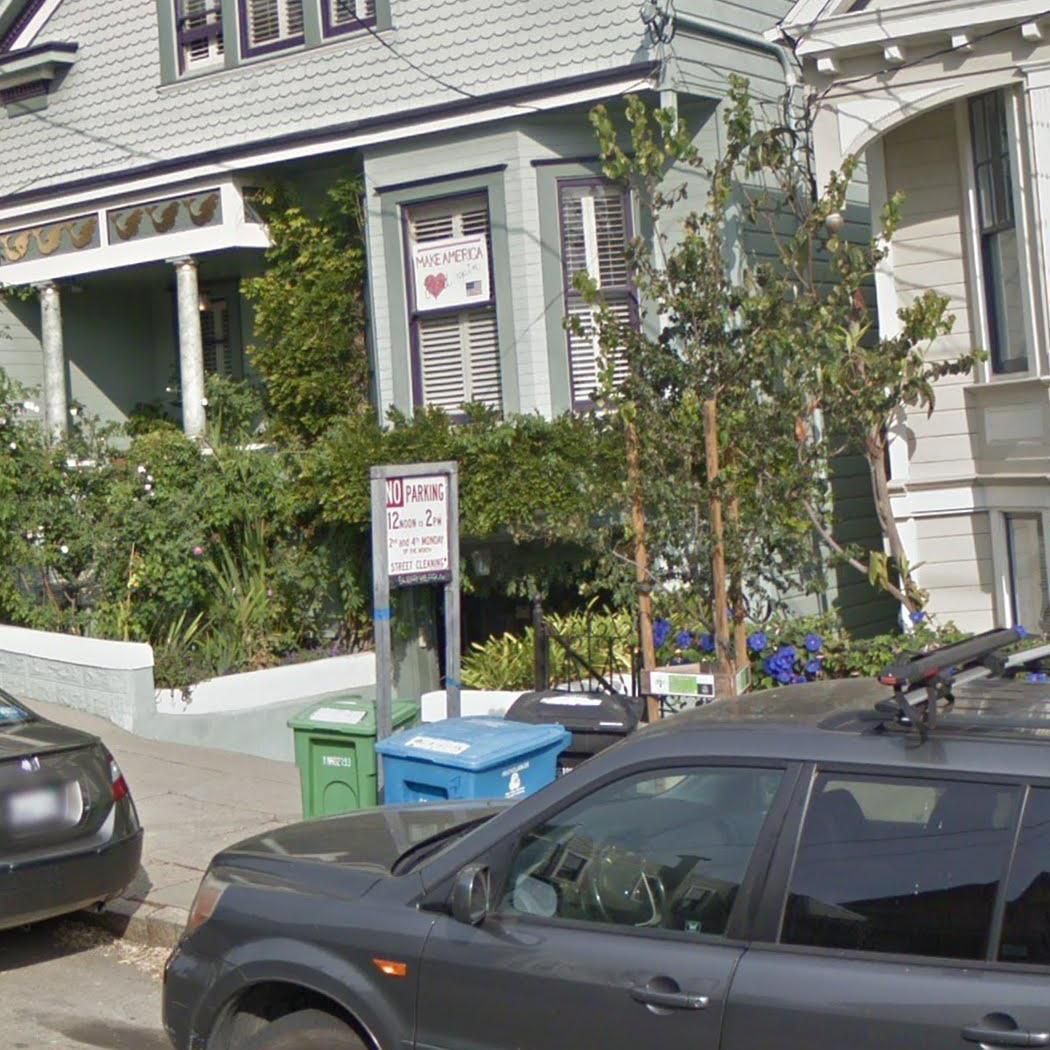No Parking: (379, 471, 453, 577)
